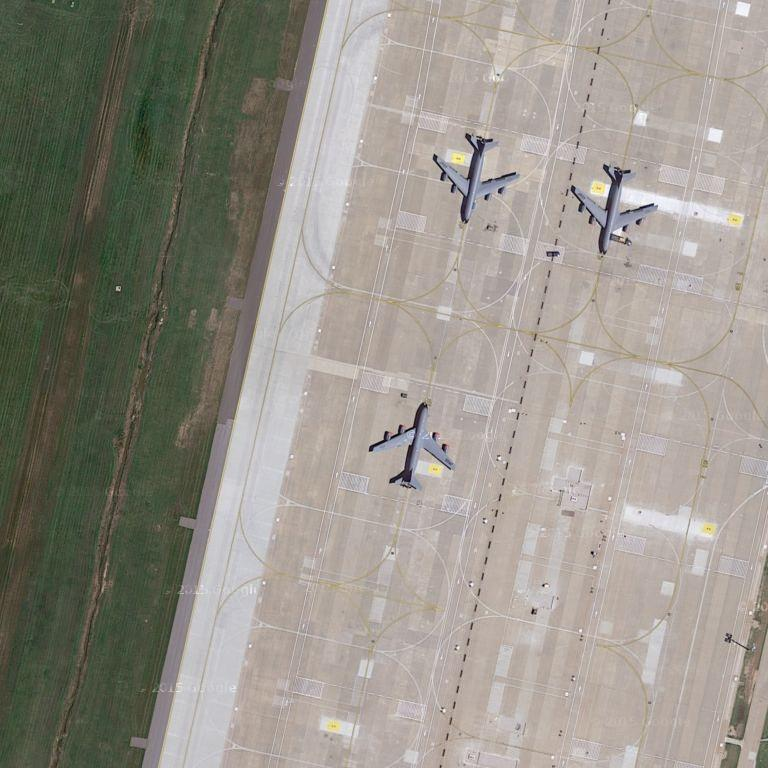KC-135: (428, 127, 525, 229), (568, 157, 661, 258), (364, 399, 460, 495)
